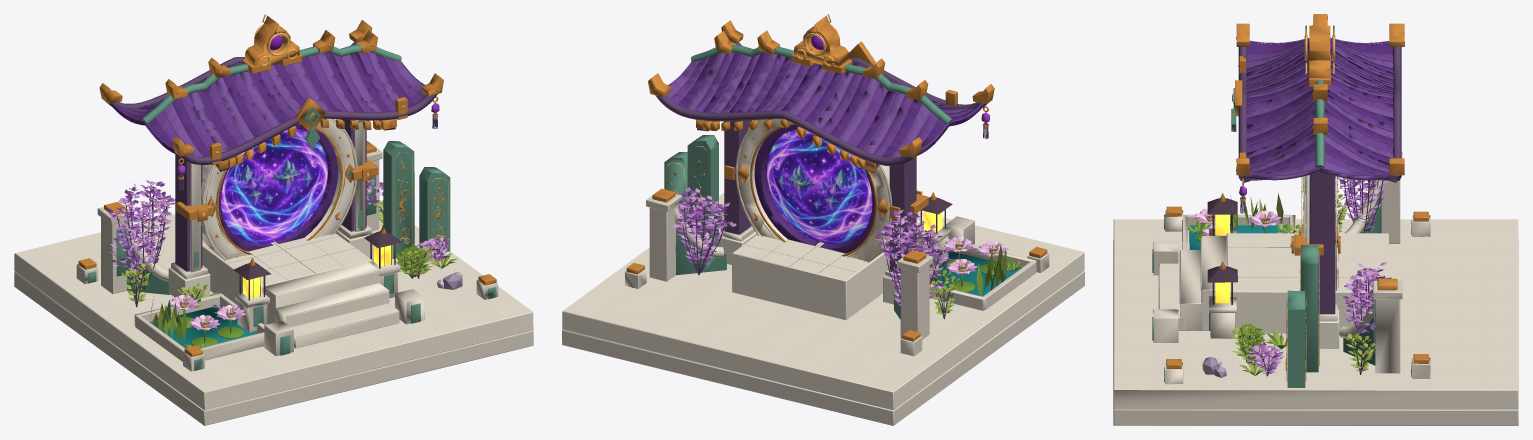
Rendered from secret-lod1-adb4192e0fda.glb.
3 renders of one model, left to right at view 1: azimuth 30°, elevation 25°; view 2: azimuth 150°, elevation 25°; view 3: azimuth 270°, elevation 25°, orthographic. The views are drawn at different scales.
Visible parts, largest first — view 1: GEO-export-MAT-secret-stone-light.008, GEO-export-MAT-secret-ivory.008, GEO-export-MAT-secret-gold.008, GEO-export-MAT-secret-jade-light.008, GEO-export-MAT-secret-portal-field.008, GEO-export-MAT-secret-roof-purple-0.008, GEO-export-MAT-secret-roof-purple-2.008, GEO-export-MAT-secret-purple-wood.008, GEO-export-MAT-secret-roof-purple-1.008, GEO-export-MAT-secret-gold-edge.008, GEO-export-MAT-secret-lotus-water.008, GEO-export-MAT-secret-garden-green-1.008 (+10 smaller); view 2: GEO-export-MAT-secret-stone-light.008, GEO-export-MAT-secret-ivory.008, GEO-export-MAT-secret-portal-field.008, GEO-export-MAT-secret-gold.008, GEO-export-MAT-secret-roof-purple-0.008, GEO-export-MAT-secret-purple-wood.008, GEO-export-MAT-secret-roof-purple-2.008, GEO-export-MAT-secret-roof-purple-1.008, GEO-export-MAT-secret-jade-light.008, GEO-export-MAT-secret-bloom-foliage-3.008, GEO-export-MAT-secret-bloom-foliage-2.008, GEO-export-MAT-secret-bloom-foliage-0.008 (+7 smaller); view 3: GEO-export-MAT-secret-stone-light.008, GEO-export-MAT-secret-ivory.008, GEO-export-MAT-secret-roof-purple-2.008, GEO-export-MAT-secret-purple-wood.008, GEO-export-MAT-secret-roof-purple-0.008, GEO-export-MAT-secret-roof-purple-1.008, GEO-export-MAT-secret-gold.008, GEO-export-MAT-secret-jade-light.008, GEO-export-MAT-secret-dark-bronze.008, GEO-export-MAT-secret-garden-green-1.008, GEO-export-MAT-secret-garden-green-2.008, GEO-export-MAT-secret-bloom-foliage-3.008 (+8 smaller).
Boxes of the visible parts, <box> form: GEO-export-MAT-secret-stone-light.008: <box>14,118,533,410</box>; GEO-export-MAT-secret-ivory.008: <box>14,119,533,425</box>; GEO-export-MAT-secret-gold.008: <box>78,16,496,356</box>; GEO-export-MAT-secret-jade-light.008: <box>88,44,496,370</box>; GEO-export-MAT-secret-portal-field.008: <box>221,128,327,243</box>; GEO-export-MAT-secret-roof-purple-0.008: <box>110,52,414,251</box>; GEO-export-MAT-secret-roof-purple-2.008: <box>112,52,425,156</box>; GEO-export-MAT-secret-purple-wood.008: <box>106,42,443,307</box>; GEO-export-MAT-secret-roof-purple-1.008: <box>120,52,422,154</box>; GEO-export-MAT-secret-gold-edge.008: <box>202,14,448,259</box>; GEO-export-MAT-secret-lotus-water.008: <box>150,305,258,347</box>; GEO-export-MAT-secret-garden-green-1.008: <box>121,202,458,347</box>; GEO-export-MAT-secret-stone-light.008: <box>562,119,1084,410</box>; GEO-export-MAT-secret-ivory.008: <box>562,119,1084,425</box>; GEO-export-MAT-secret-portal-field.008: <box>767,129,872,244</box>; GEO-export-MAT-secret-gold.008: <box>626,15,1047,341</box>; GEO-export-MAT-secret-roof-purple-0.008: <box>678,52,984,253</box>; GEO-export-MAT-secret-purple-wood.008: <box>655,42,988,319</box>; GEO-export-MAT-secret-roof-purple-2.008: <box>666,52,982,157</box>; GEO-export-MAT-secret-roof-purple-1.008: <box>669,53,974,156</box>; GEO-export-MAT-secret-jade-light.008: <box>664,45,951,246</box>; GEO-export-MAT-secret-bloom-foliage-3.008: <box>672,188,948,298</box>; GEO-export-MAT-secret-bloom-foliage-2.008: <box>675,187,949,301</box>; GEO-export-MAT-secret-bloom-foliage-0.008: <box>677,193,953,303</box>; GEO-export-MAT-secret-stone-light.008: <box>1113,175,1518,409</box>; GEO-export-MAT-secret-ivory.008: <box>1113,152,1518,425</box>; GEO-export-MAT-secret-roof-purple-2.008: <box>1245,37,1394,180</box>; GEO-export-MAT-secret-purple-wood.008: <box>1238,47,1401,376</box>; GEO-export-MAT-secret-roof-purple-0.008: <box>1246,39,1393,174</box>; GEO-export-MAT-secret-roof-purple-1.008: <box>1244,41,1394,180</box>; GEO-export-MAT-secret-gold.008: <box>1166,14,1428,368</box>; GEO-export-MAT-secret-jade-light.008: <box>1152,80,1411,387</box>; GEO-export-MAT-secret-dark-bronze.008: <box>1207,198,1237,304</box>; GEO-export-MAT-secret-garden-green-1.008: <box>1188,194,1375,375</box>; GEO-export-MAT-secret-garden-green-2.008: <box>1188,193,1376,375</box>; GEO-export-MAT-secret-bloom-foliage-3.008: <box>1247,178,1387,367</box>.
Size of the model in its own units: 10 by 8.59 by 10.
Materials: 44 (7 with a texture image).
